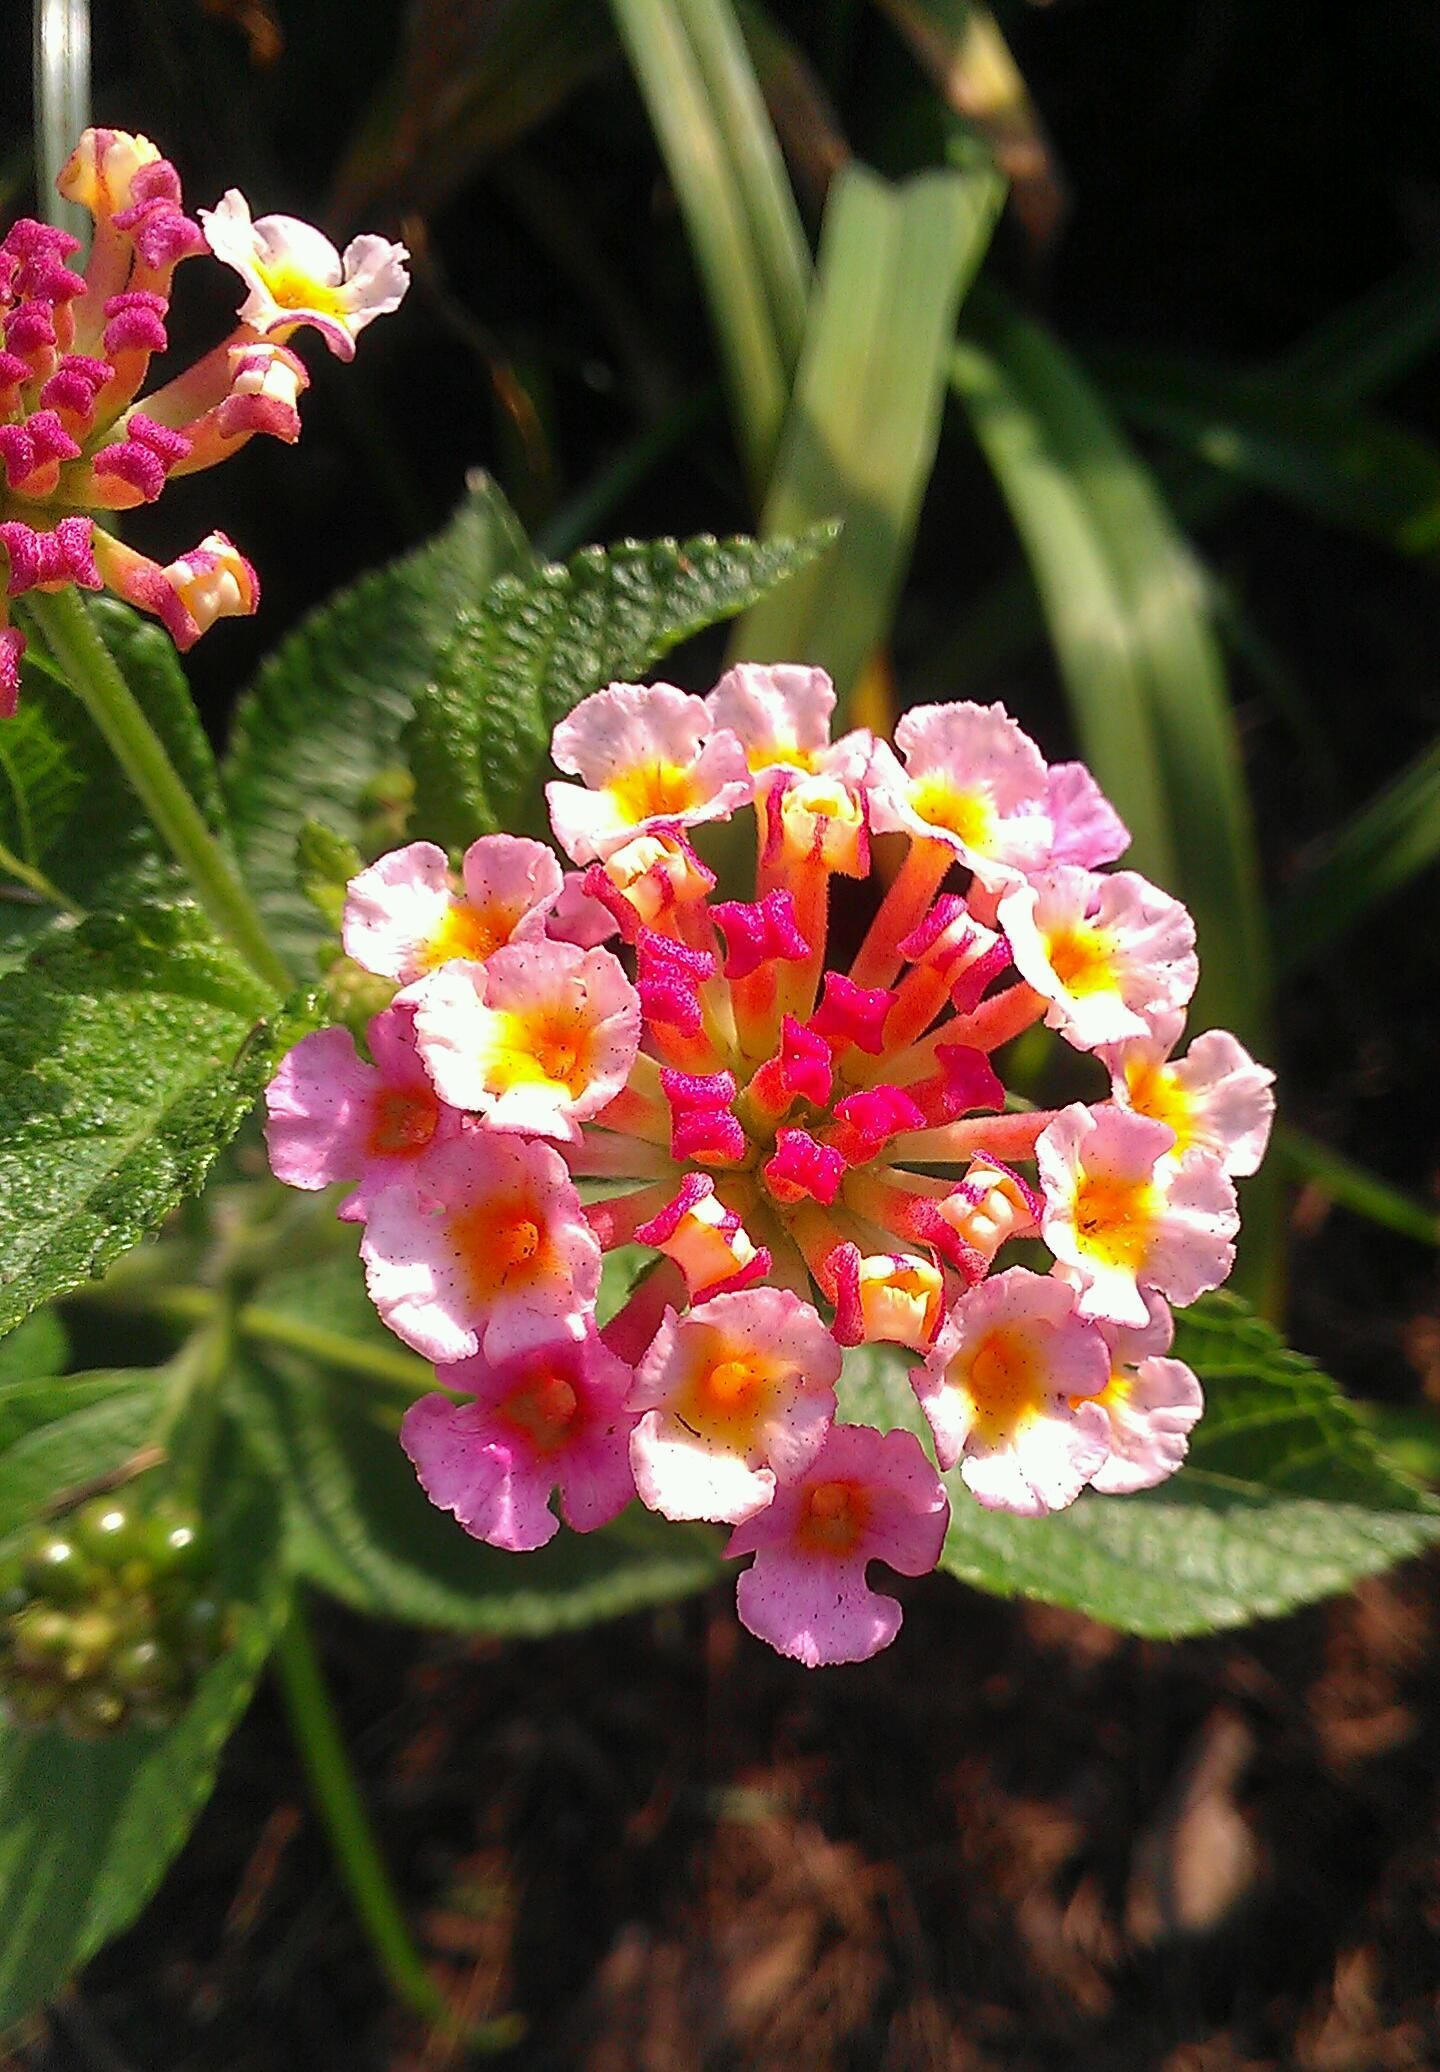lantana: (730, 1422, 949, 1666), (364, 1138, 601, 1357), (633, 1285, 840, 1524), (398, 1341, 633, 1552), (913, 1267, 1110, 1515), (1036, 1105, 1235, 1323), (423, 942, 641, 1132), (870, 701, 1048, 890), (1002, 871, 1194, 1045), (549, 686, 751, 850), (261, 1012, 460, 1173), (707, 663, 869, 850), (342, 839, 559, 973), (1075, 1294, 1202, 1499)
